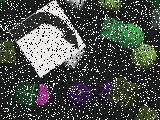Right: (8, 0, 86, 78)
